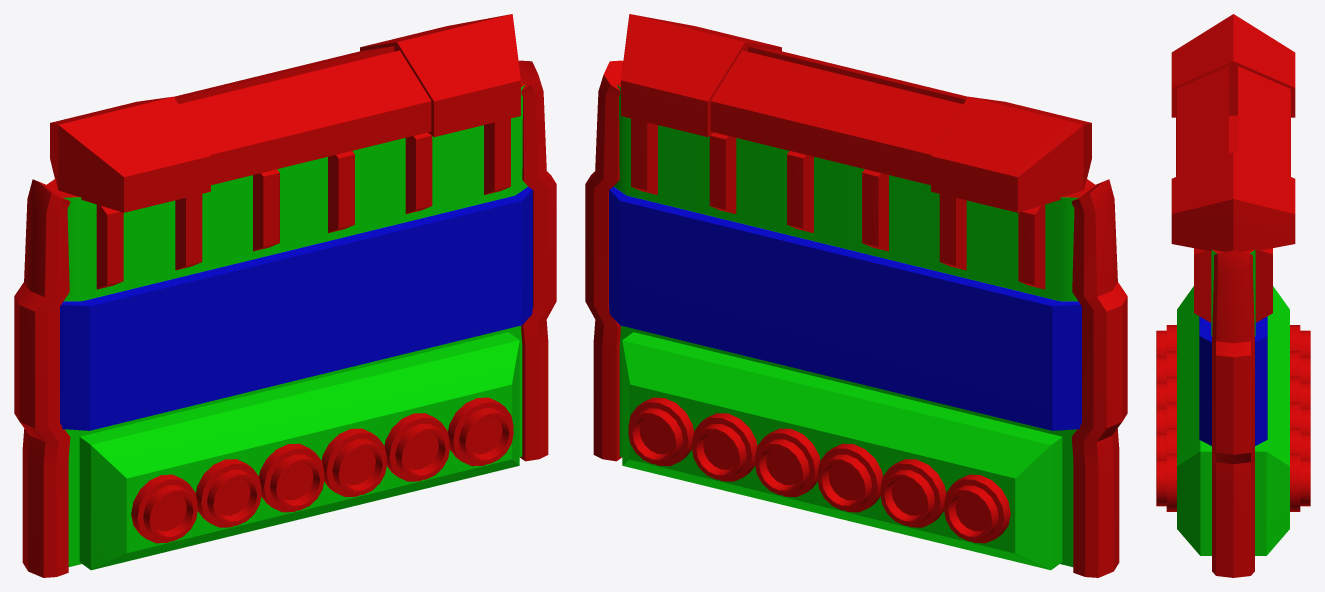
The model's file is SM_LavaSucker.fbx.
3 renders of one model, left to right at view 1: azimuth 30°, elevation 25°; view 2: azimuth 150°, elevation 25°; view 3: azimuth 270°, elevation 25°, orthographic. The views are drawn at different scales.
Parts seen in each view (by area): view 1: SM_LavaSucker; view 2: SM_LavaSucker; view 3: SM_LavaSucker.
Part boxes in pixels (x1,y1,x2,y2): SM_LavaSucker: (14, 14, 556, 577); SM_LavaSucker: (585, 14, 1127, 577); SM_LavaSucker: (1156, 14, 1310, 577).
Size of what is drawn, in the model's own units: 7328 by 2204 by 5789.
